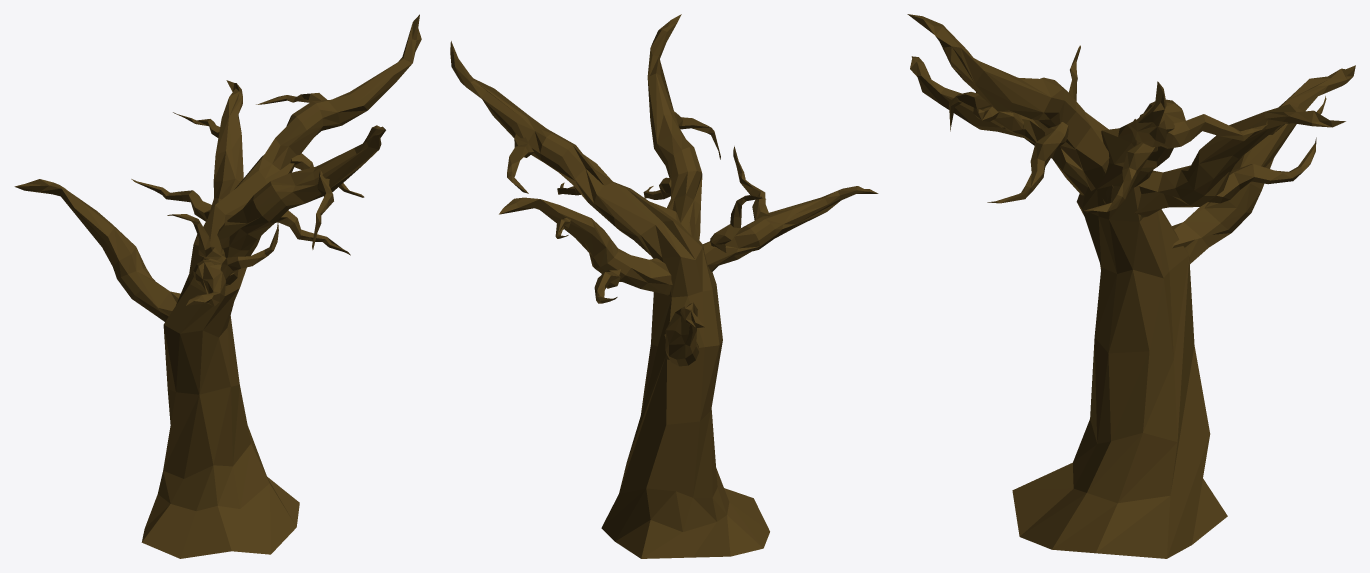
File: gnarled-dead.glb
3 views of the same model, side by side, from view 1: azimuth 30°, elevation 25°; view 2: azimuth 150°, elevation 25°; view 3: azimuth 270°, elevation 25° (orthographic). The views are drawn at different scales.
Parts seen in each view (by area): view 1: model; view 2: model; view 3: model.
Part boxes in pixels (x1,y1,x2,y2): model: [14, 14, 421, 558]; model: [450, 14, 878, 558]; model: [907, 14, 1355, 558].
Size of the model in its own units: 922 by 1208 by 842.
